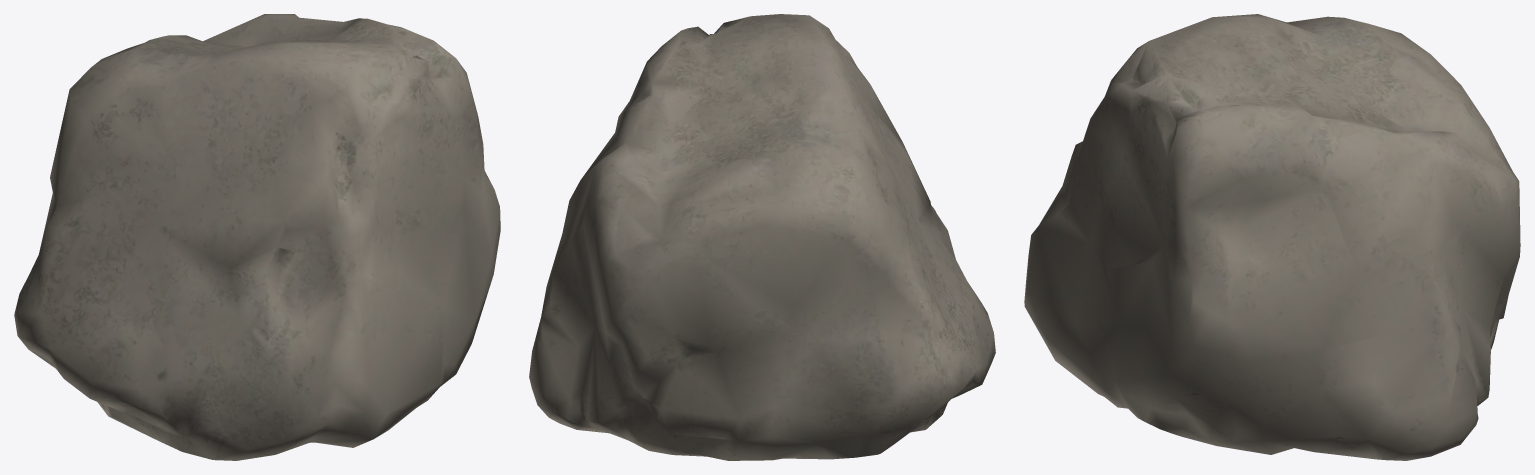
File: nat-moon-a.glb
3 views of the same model, side by side, from view 1: azimuth 30°, elevation 25°; view 2: azimuth 150°, elevation 25°; view 3: azimuth 270°, elevation 25° (orthographic). The views are drawn at different scales.
Parts seen in each view (by area): view 1: moon_rock_02_LOD0; view 2: moon_rock_02_LOD0; view 3: moon_rock_02_LOD0.
Part boxes in pixels (left/top/right/bottom): moon_rock_02_LOD0: left=14, top=14, right=500, bottom=460; moon_rock_02_LOD0: left=529, top=14, right=995, bottom=460; moon_rock_02_LOD0: left=1024, top=14, right=1520, bottom=460.
Bounding box in the file's own units: 0.2457 × 0.2015 × 0.2513.
Materials: 1 (1 with a texture image).
